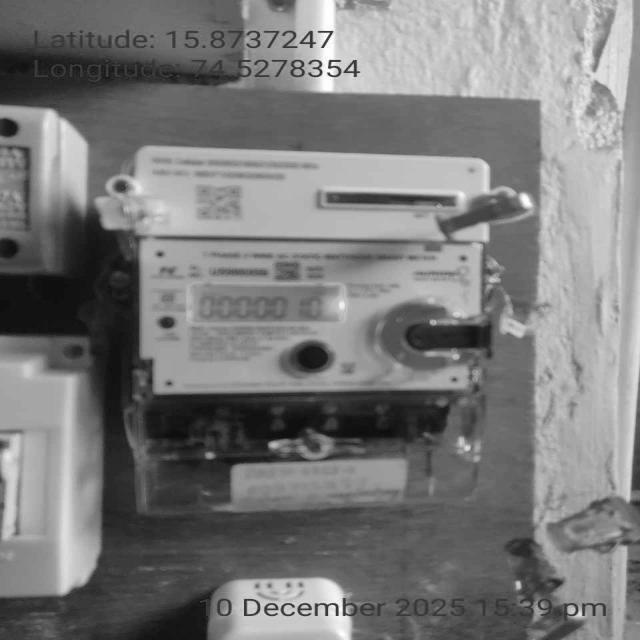meter: (136, 148, 496, 392)
